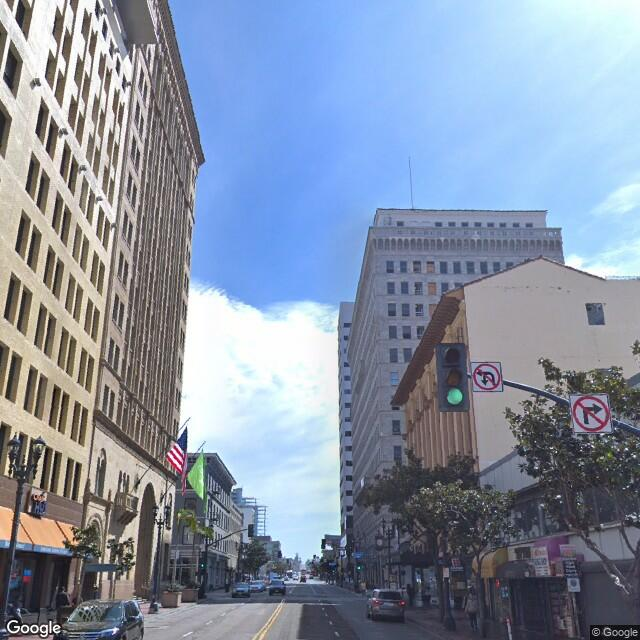light: (31, 438, 46, 457), (5, 438, 20, 451)
